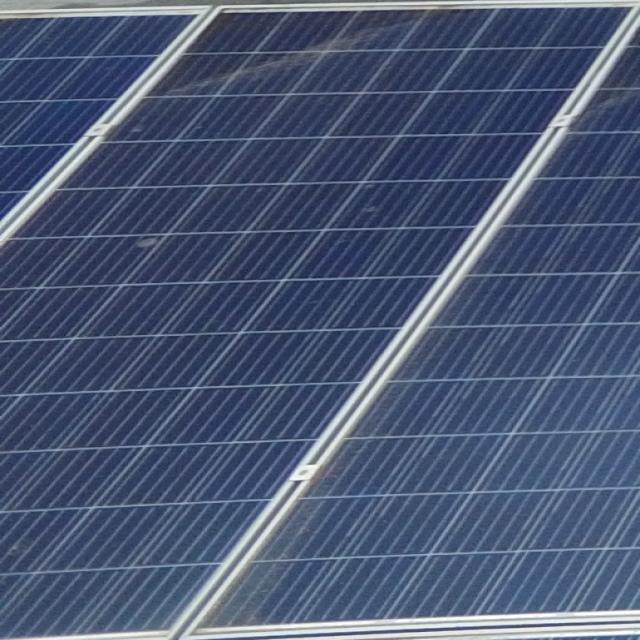Dust: (196, 442, 350, 640), (170, 0, 418, 84)
bird-droppings: (130, 230, 169, 254), (362, 202, 388, 216), (126, 128, 150, 136)
